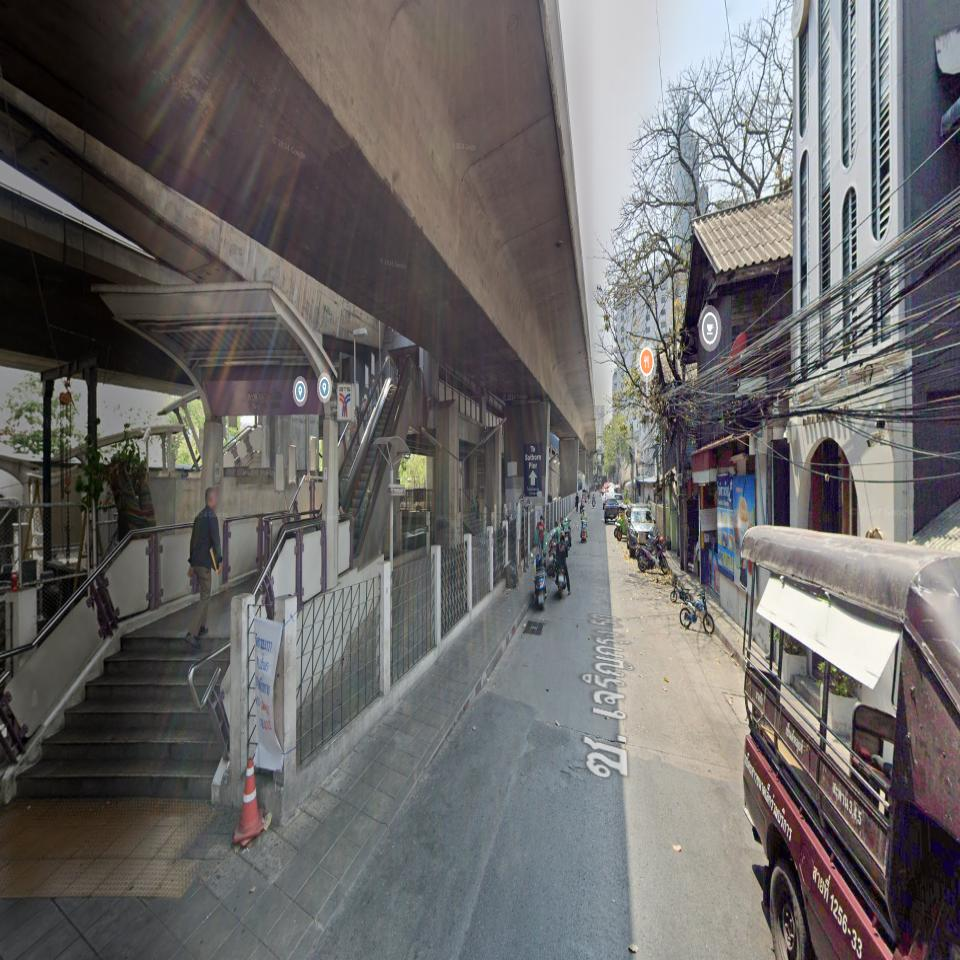Saphan Taksin: (204, 378, 353, 422), (204, 378, 325, 416)
